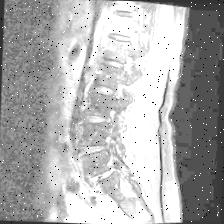disc: (96, 52, 130, 72), (105, 28, 136, 47), (110, 6, 142, 24), (87, 81, 118, 99)
hdisc: (75, 139, 112, 159), (86, 166, 120, 186), (83, 109, 115, 127)
